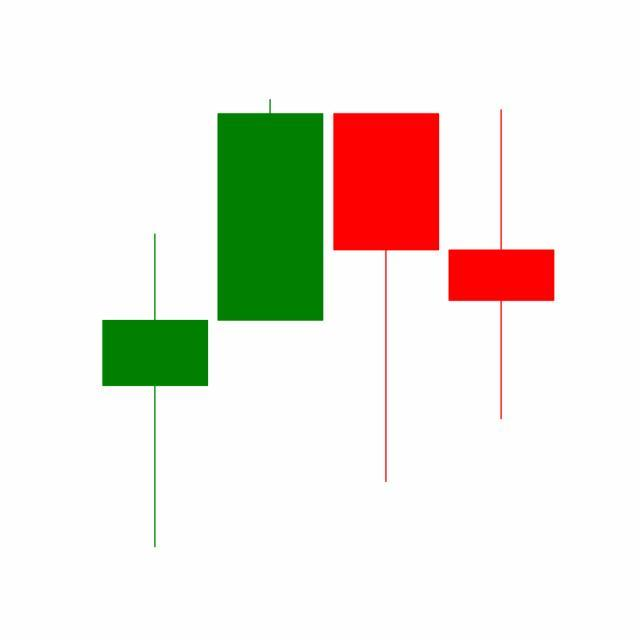Spinning Top: (444, 107, 560, 424)
